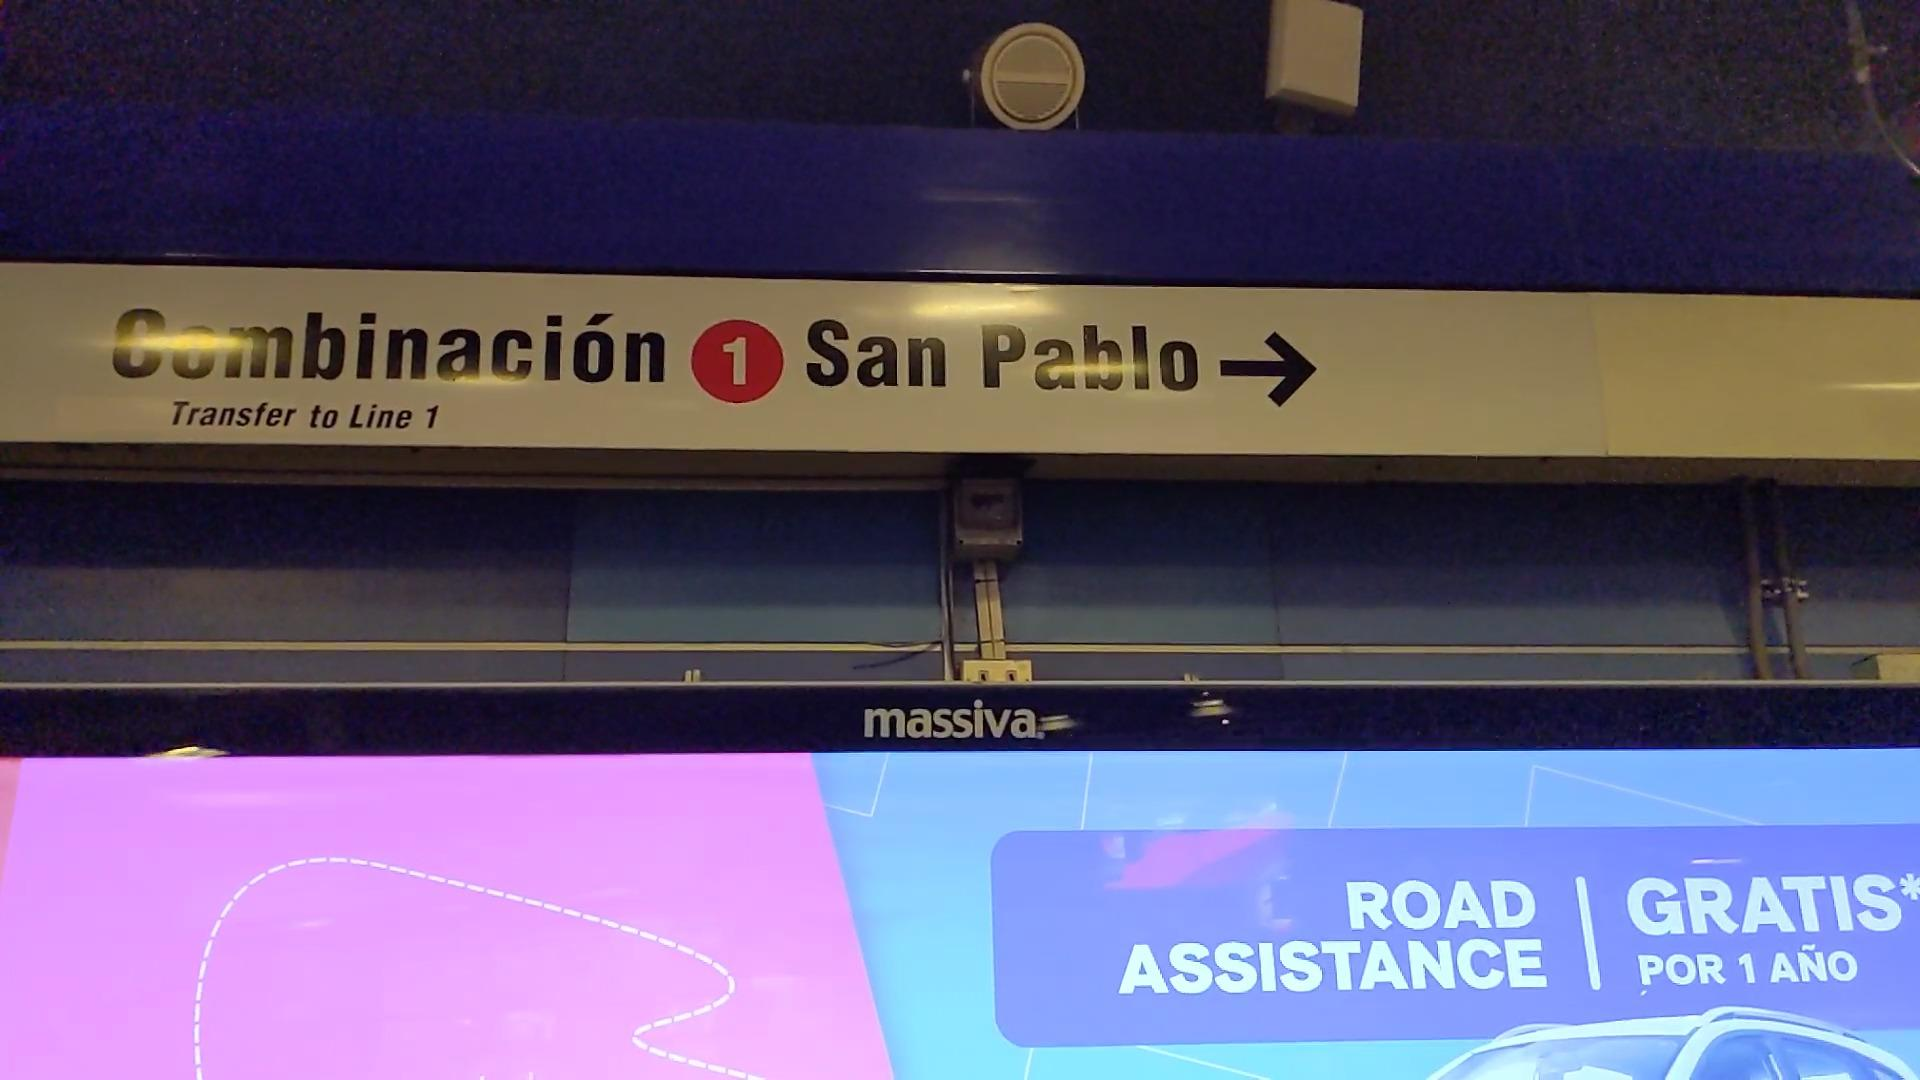right arrow: (1216, 328, 1331, 418)
